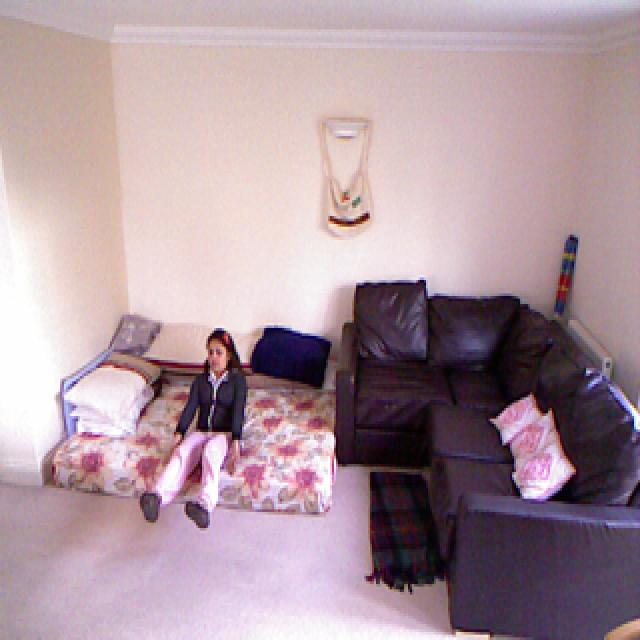sitting: (128, 330, 247, 530)
